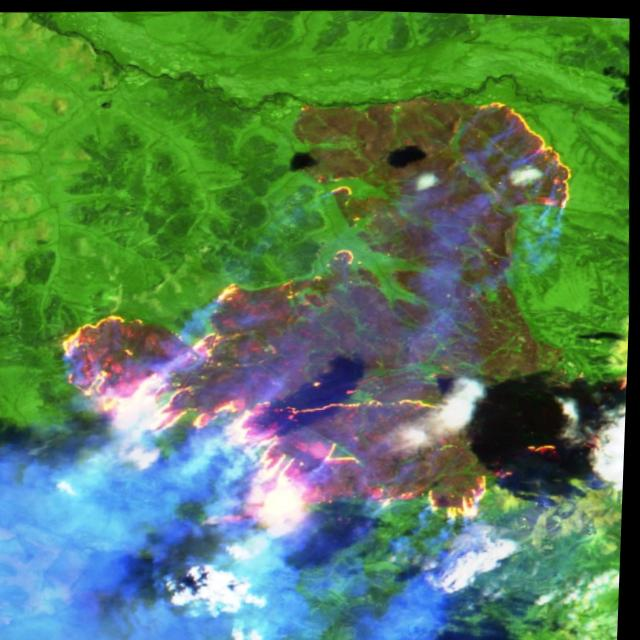fire: (33, 71, 638, 554)
